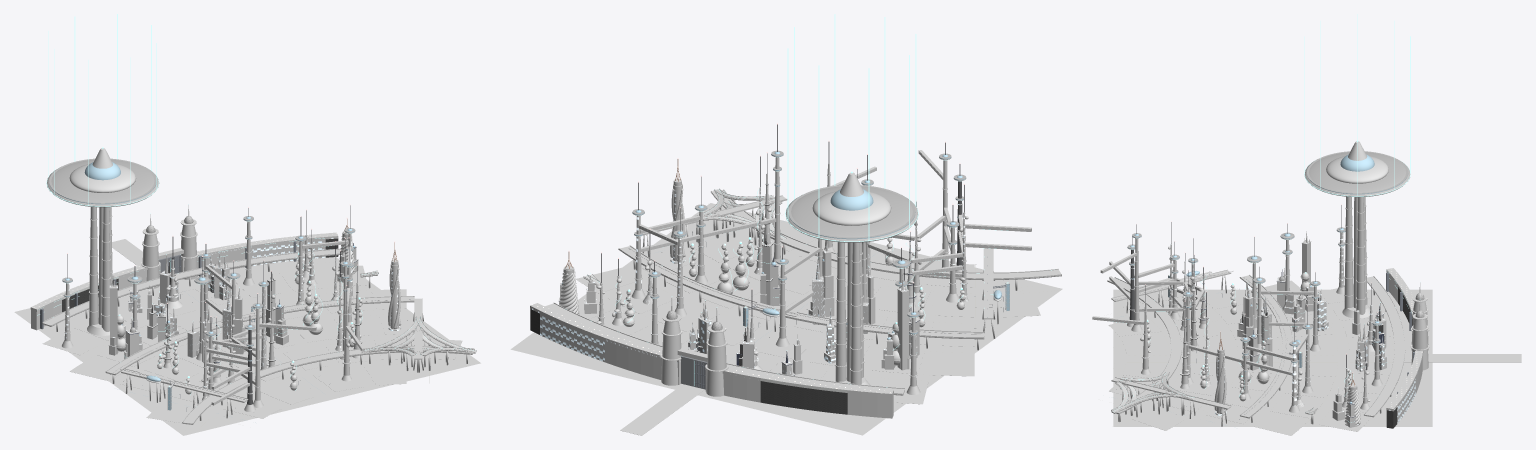
The model's file is Viertel_M3.fbx.
3 renders of one model, left to right at view 1: azimuth 30°, elevation 25°; view 2: azimuth 150°, elevation 25°; view 3: azimuth 270°, elevation 25°, orthographic. The views are drawn at different scales.
Visible parts, largest first — view 1: Viertel_M3_Strasse, Viertel_M3_Fassaden, Viertel_M3_Details; view 2: Viertel_M3_Strasse, Viertel_M3_Fassaden, Viertel_M3_Details; view 3: Viertel_M3_Strasse, Viertel_M3_Fassaden, Viertel_M3_Details.
Part boxes in pixels (bbox=[...]): Viertel_M3_Strasse: bbox=[14, 239, 480, 435]; Viertel_M3_Fassaden: bbox=[30, 207, 400, 411]; Viertel_M3_Details: bbox=[37, 14, 476, 420]; Viertel_M3_Strasse: bbox=[510, 189, 1062, 435]; Viertel_M3_Fassaden: bbox=[530, 157, 968, 418]; Viertel_M3_Details: bbox=[558, 14, 1054, 387]; Viertel_M3_Strasse: bbox=[1107, 274, 1521, 435]; Viertel_M3_Fassaden: bbox=[1127, 196, 1428, 428]; Viertel_M3_Details: bbox=[1092, 14, 1429, 426].
Size of the model in its own units: 72458 by 60000 by 84592.
